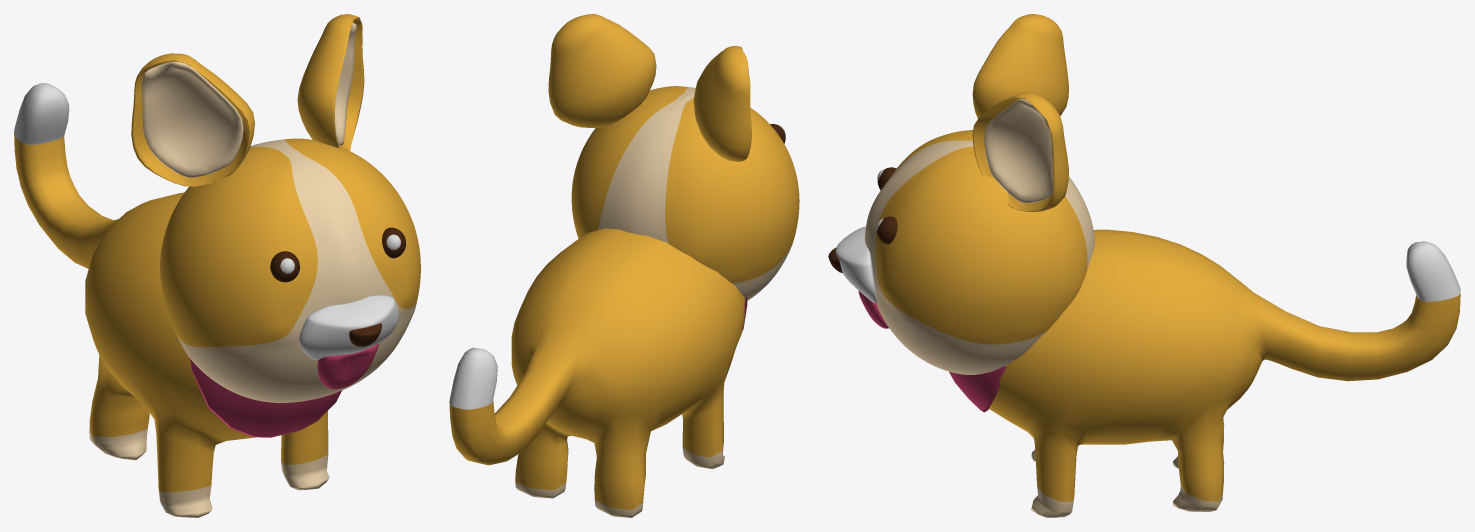
Rendered from dog.fbx.
3 renders of one model, left to right at view 1: azimuth 30°, elevation 25°; view 2: azimuth 150°, elevation 25°; view 3: azimuth 270°, elevation 25°, orthographic. The views are drawn at different scales.
Parts seen in each view (by area): view 1: head2, polySurface11, pSphere4 (×2), pSphere3 (×2), polySurface10, nose, tongue, pSphere5, main_nose; view 2: polySurface11, head2, pSphere3 (×2); view 3: polySurface11, head2, pSphere3 (×2), pSphere4, nose, polySurface10.
Boxes of the visible parts, x1,y1,x2,y2 form: head2: (160, 138, 420, 402); polySurface11: (14, 83, 329, 517); pSphere4 (×2): (141, 23, 356, 177); pSphere3 (×2): (131, 14, 364, 187); polySurface10: (190, 358, 341, 437); nose: (299, 295, 398, 359); tongue: (317, 344, 378, 389); pSphere5: (270, 251, 299, 282); main_nose: (349, 323, 381, 346); polySurface11: (449, 228, 744, 517); head2: (571, 86, 799, 301); pSphere3 (×2): (548, 14, 751, 161); polySurface11: (989, 229, 1460, 517); head2: (864, 130, 1094, 374); pSphere3 (×2): (972, 14, 1068, 211); pSphere4: (984, 99, 1053, 203); nose: (835, 226, 876, 303); polySurface10: (949, 366, 1006, 412).
Size of the model in its own units: 1.03 by 2 by 2.64.
